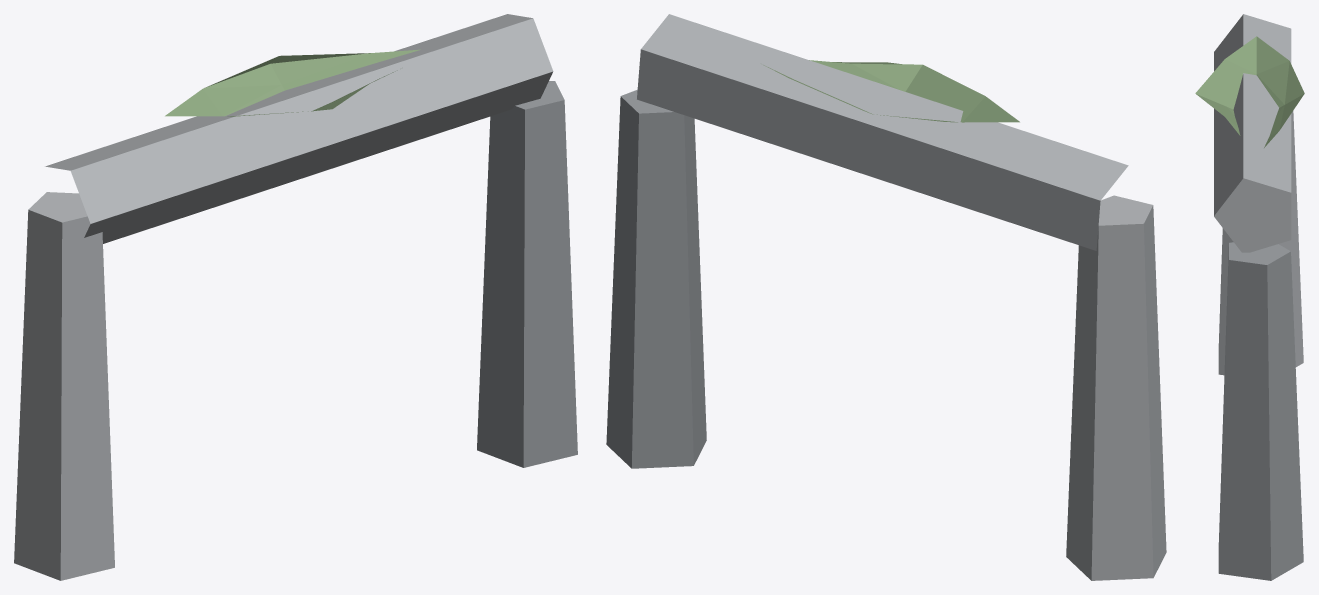
File: arch_rock_v32.glb
3 views of the same model, side by side, from view 1: azimuth 30°, elevation 25°; view 2: azimuth 150°, elevation 25°; view 3: azimuth 270°, elevation 25° (orthographic). The views are drawn at different scales.
Parts seen in each view (by area): view 1: lod0; view 2: lod0; view 3: lod0.
Boxes of the visible parts, <box> form: lod0: <box>14,14,577,580</box>; lod0: <box>606,14,1166,580</box>; lod0: <box>1195,14,1304,580</box>.
Size of what is drawn, in the model's own units: 2.62 by 2.03 by 0.5117.
